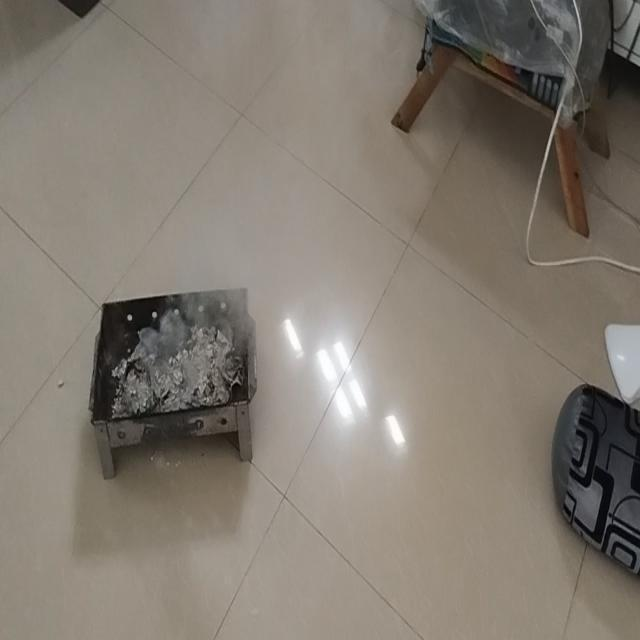fire: (172, 225, 252, 338)
